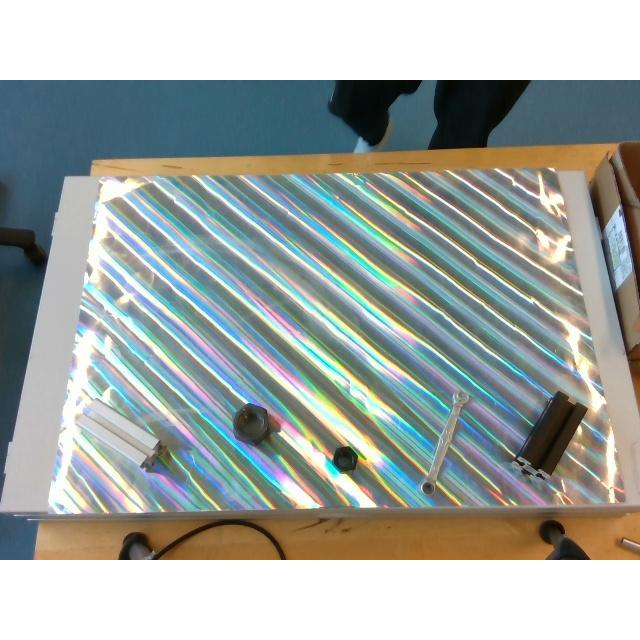M20: (332, 446, 358, 474)
M30: (233, 404, 269, 444)
S40_40_B: (512, 388, 588, 484)
S40_40_G: (74, 398, 166, 474)
Wrench: (420, 390, 470, 494)
